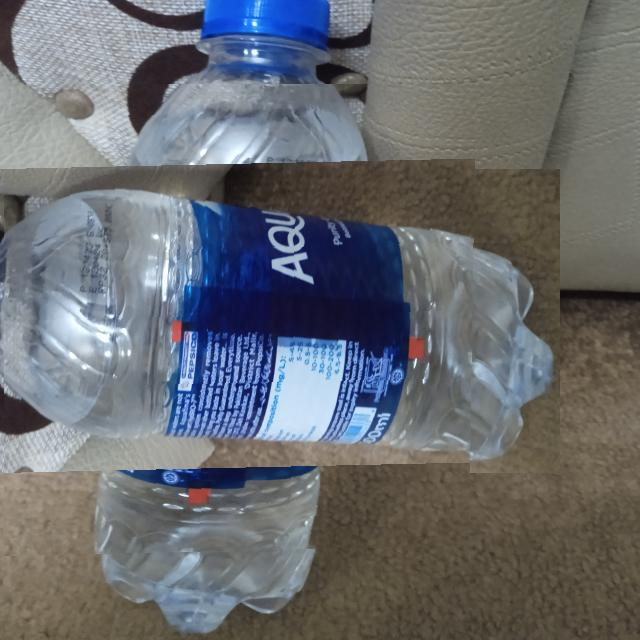Plastic: (4, 84, 477, 556)
